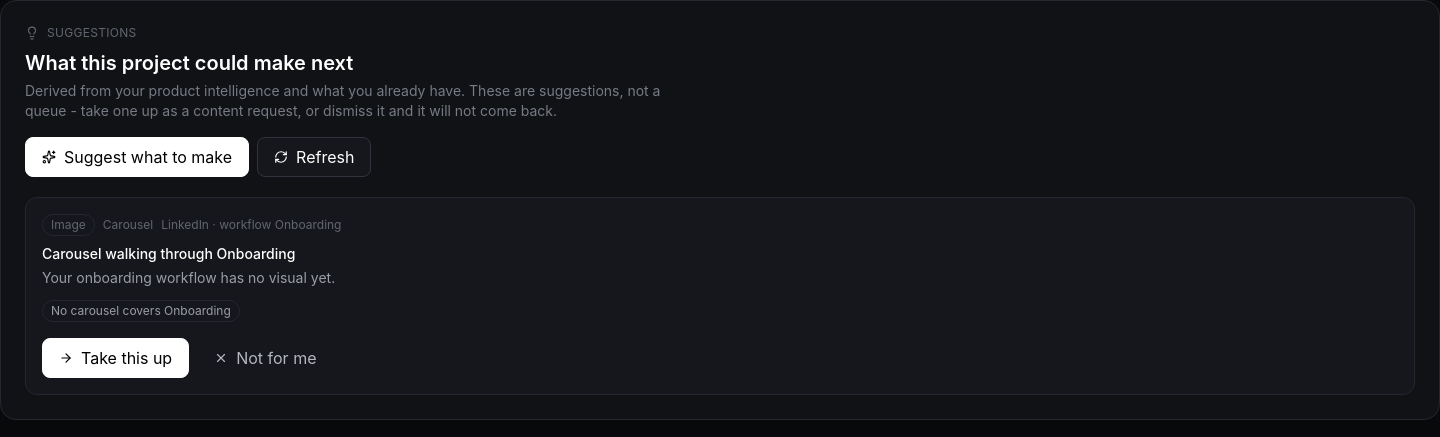
Scenario: RecommendationsPanel › takes a suggestion up and marks it done
Click the button "Take this up".
click(116, 358)  # box [42,338,189,378]
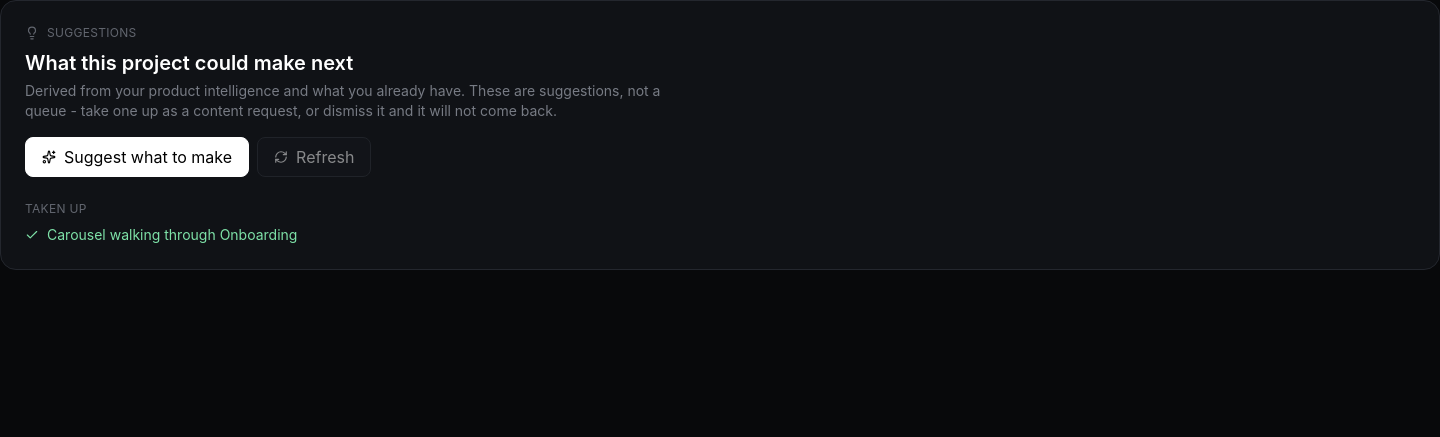
Result: the heading "Taken up" is shown at [25,201,87,216]
